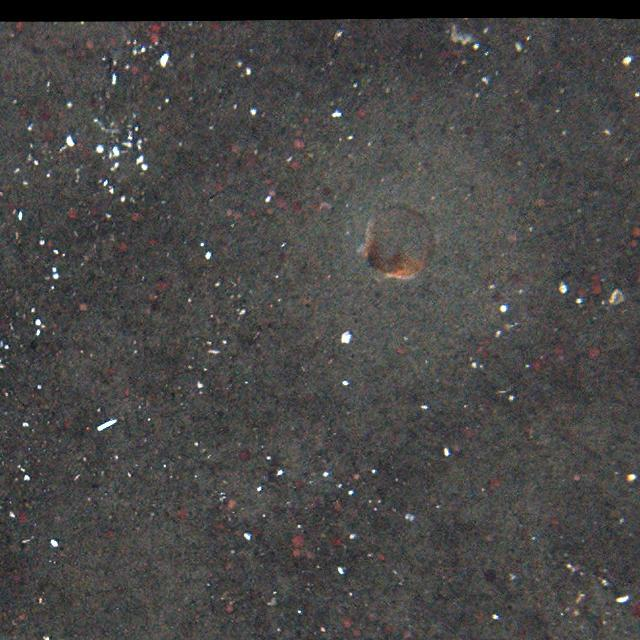scallop: (355, 204, 435, 284)
